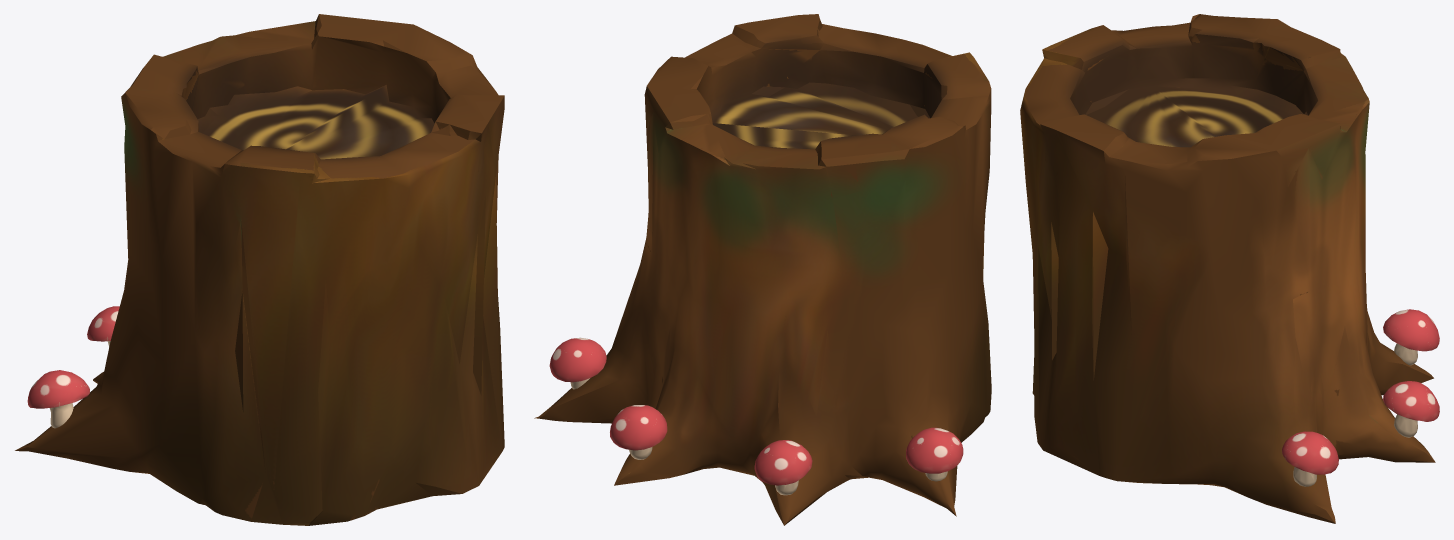
File: tree_stump(new).fbx
The picture shows the model from 3 angles, left to right: view 1: azimuth 30°, elevation 25°; view 2: azimuth 150°, elevation 25°; view 3: azimuth 270°, elevation 25°; orthographic projection. The views are drawn at different scales.
Visible parts, largest first — view 1: Stump, Mushroom1, Mushroom2; view 2: Stump, Mushroom3, Mushroom2, Mushroom1, Mushroom4; view 3: Stump, Mushroom4, Mushroom3, Mushroom2.
Boxes of the visible parts, x1,y1,x2,y2 form: Stump: (15, 14, 504, 525); Mushroom1: (27, 370, 89, 428); Mushroom2: (87, 306, 119, 347); Stump: (534, 14, 991, 525); Mushroom3: (610, 405, 667, 459); Mushroom2: (754, 440, 812, 495); Mushroom1: (906, 427, 963, 481); Mushroom4: (549, 337, 606, 389); Stump: (1020, 14, 1435, 523); Mushroom4: (1282, 431, 1338, 486); Mushroom3: (1383, 381, 1439, 437); Mushroom2: (1383, 309, 1439, 365).
Size of the model in its own units: 279 by 238 by 211.
Materials: 5 (5 with a texture image).
